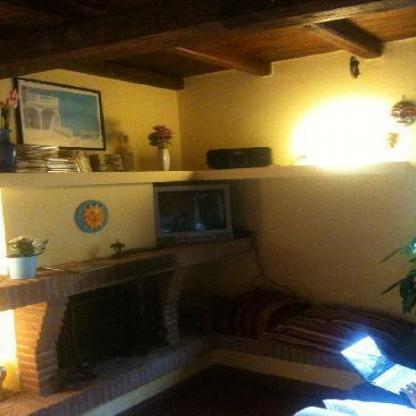other: (282, 94, 398, 181)
